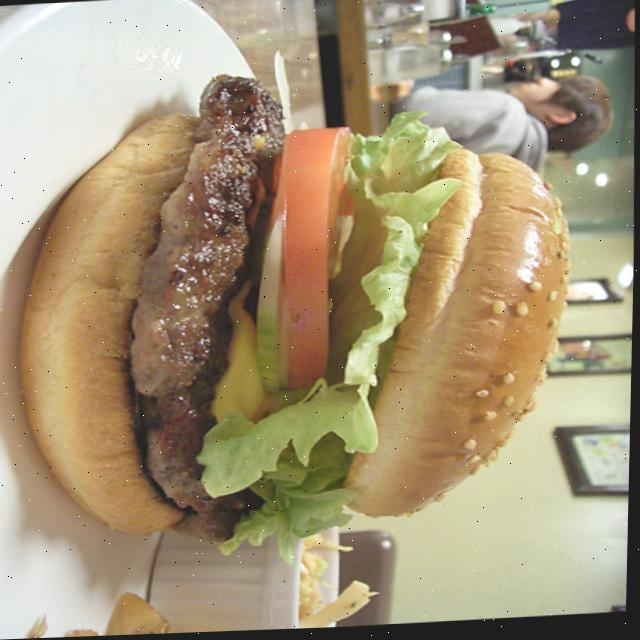汉堡快餐: (4, 111, 586, 564)
